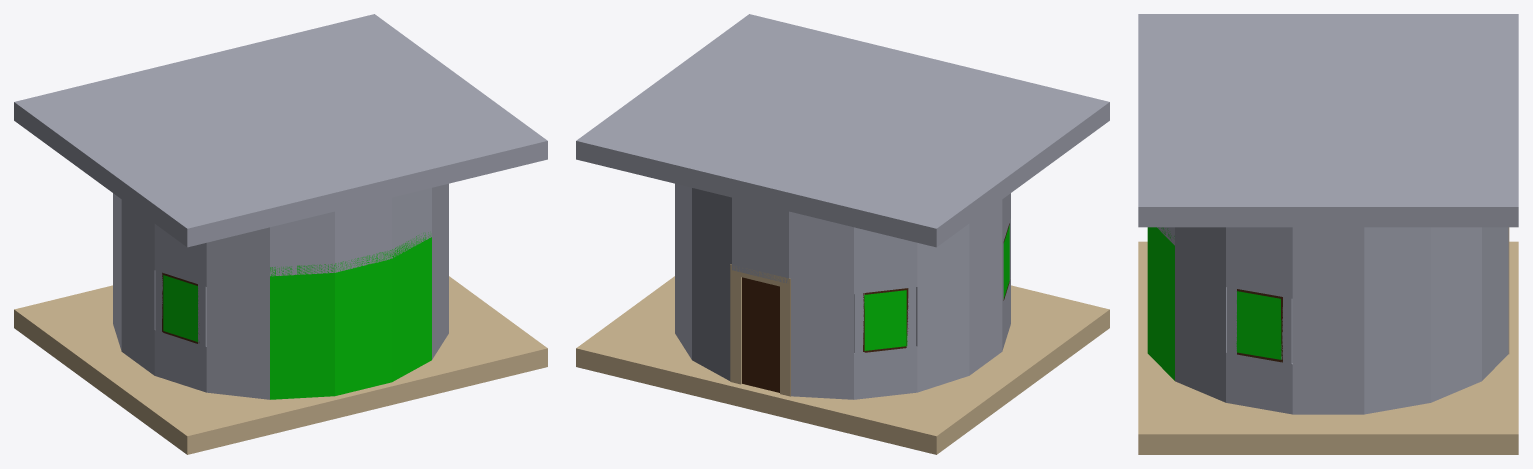
The model's file is OvalOffice.fbx.
3 views of the same model, side by side, from view 1: azimuth 30°, elevation 25°; view 2: azimuth 150°, elevation 25°; view 3: azimuth 270°, elevation 25° (orthographic). The views are drawn at different scales.
Visible parts, largest first — view 1: hexadecagon; view 2: hexadecagon; view 3: hexadecagon.
Part boxes in pixels (bbox=[...]): hexadecagon: bbox=[14, 14, 547, 454]; hexadecagon: bbox=[576, 14, 1109, 454]; hexadecagon: bbox=[1138, 14, 1518, 454].
Size of the model in its own units: 1261 by 756 by 1050.
